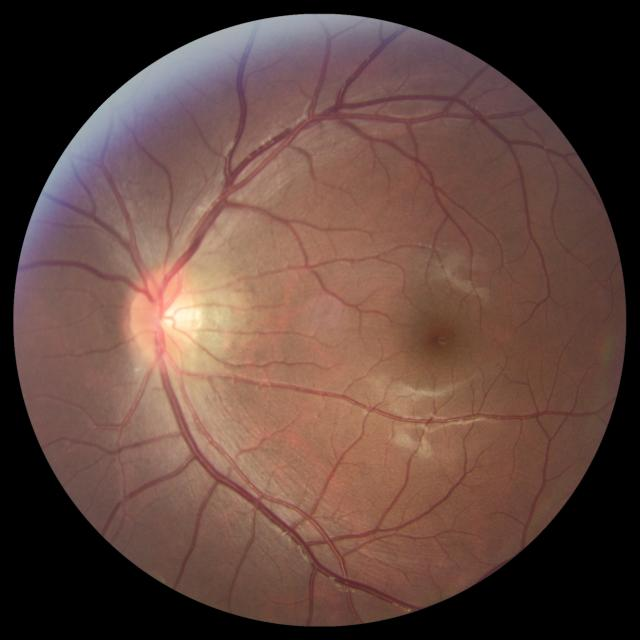OC: (156, 297, 191, 336)
OD: (131, 268, 200, 363)
